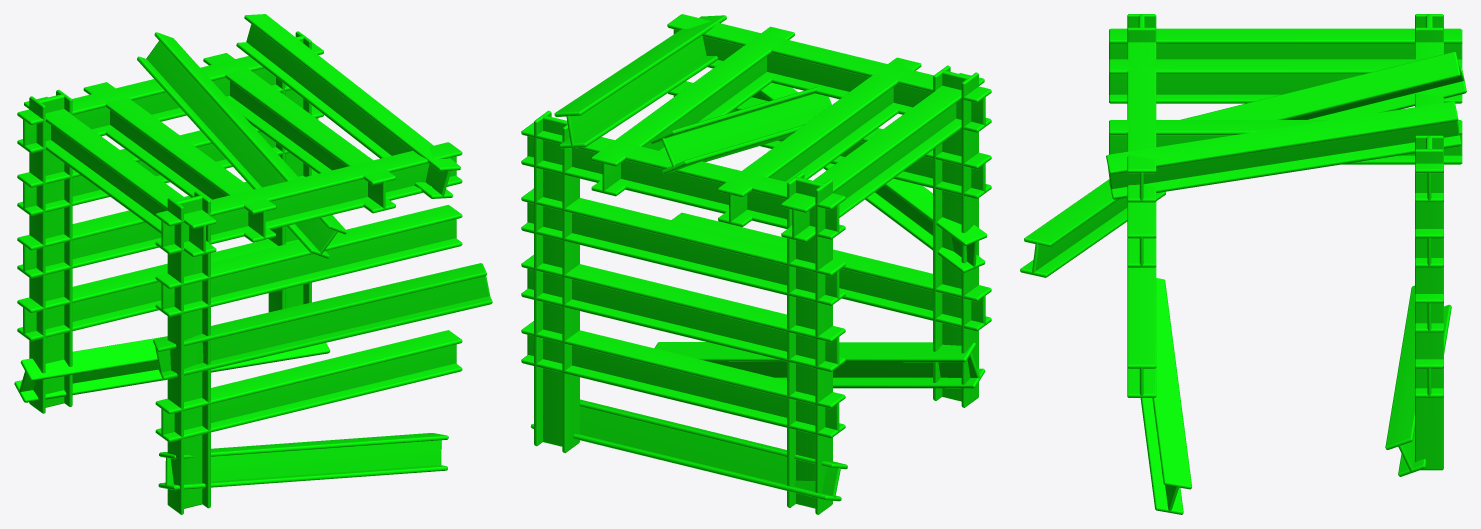
Rendered from spaceDebri_05.obj.
3 renders of one model, left to right at view 1: azimuth 30°, elevation 25°; view 2: azimuth 150°, elevation 25°; view 3: azimuth 270°, elevation 25°, orthographic. The views are drawn at different scales.
Parts seen in each view (by area): view 1: spaceDebri_05 debri_grp; view 2: spaceDebri_05 debri_grp; view 3: spaceDebri_05 debri_grp.
Part boxes in pixels (x1,y1,x2,y2): spaceDebri_05 debri_grp: (14,14,492,514); spaceDebri_05 debri_grp: (521,14,991,514); spaceDebri_05 debri_grp: (1020,14,1466,514).
Bounding box in the file's own units: 1008 × 1197 × 1243.
